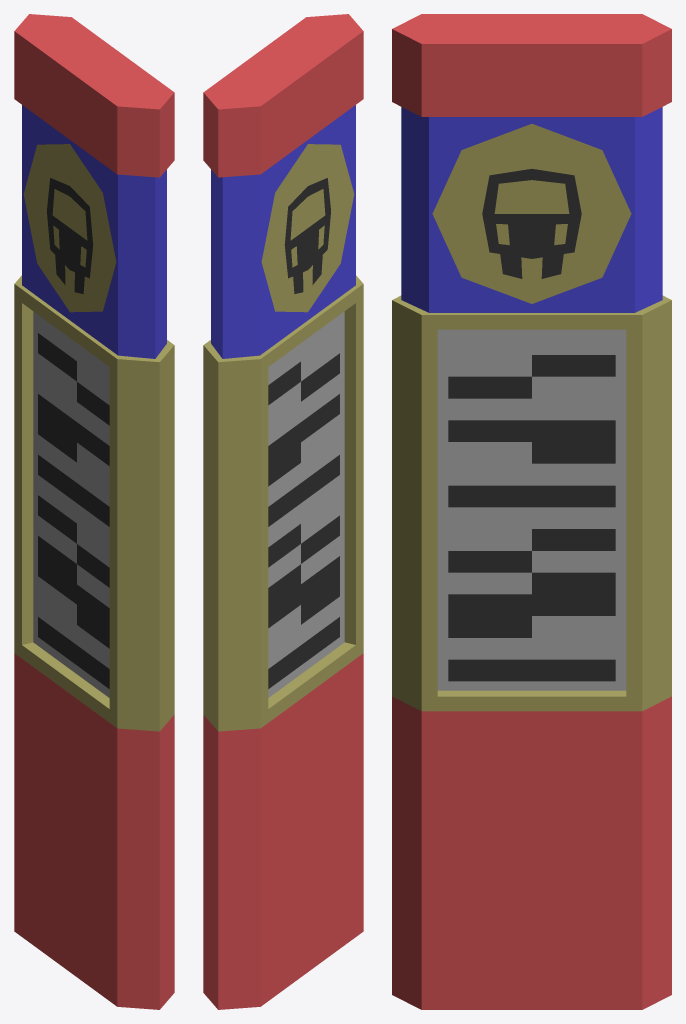
File: BusSign.fbx
The picture shows the model from 3 angles, left to right: view 1: azimuth 30°, elevation 25°; view 2: azimuth 150°, elevation 25°; view 3: azimuth 270°, elevation 25°; orthographic projection. The views are drawn at different scales.
Parts seen in each view (by area): view 1: BusSign; view 2: BusSign; view 3: BusSign.
Part boxes in pixels (x1,y1,x2,y2): BusSign: (14,14,174,1009); BusSign: (203,14,363,1009); BusSign: (392,14,671,1009).
Bounding box in the file's own units: 12.67 × 190 × 50.
